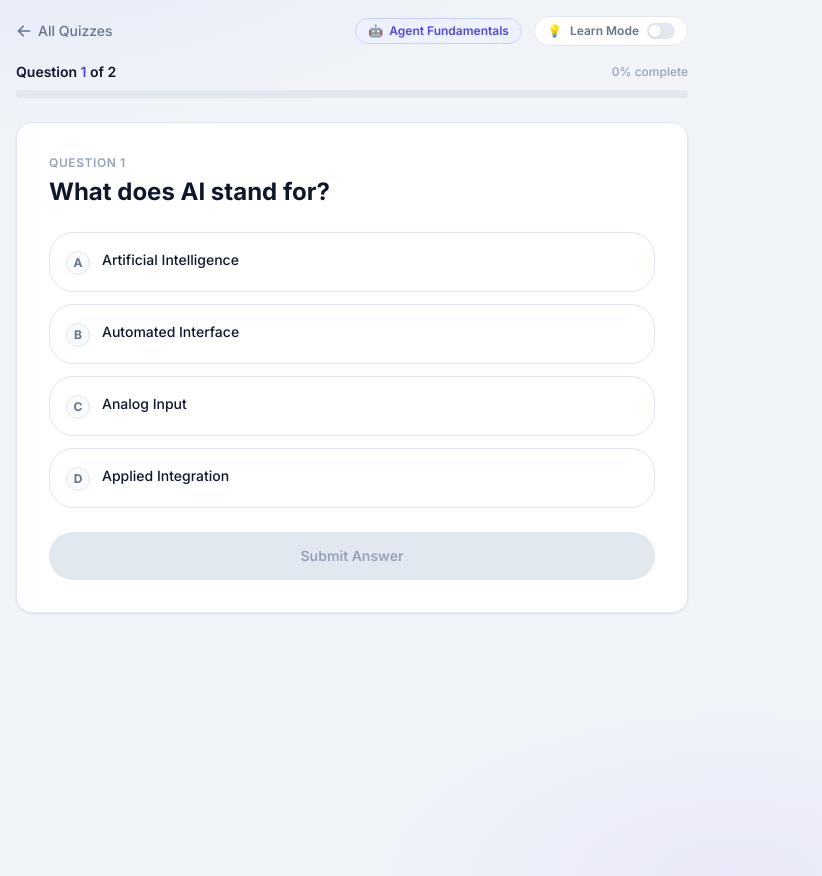
Scenario: QuizPage — after submit › shows the explanation after submitting
Expected: the heading "What does AI stand for?" is shown, [49,177,330,206]
Click the text "Artificial Intelligence" at (170, 260), box [102,249,239,272]
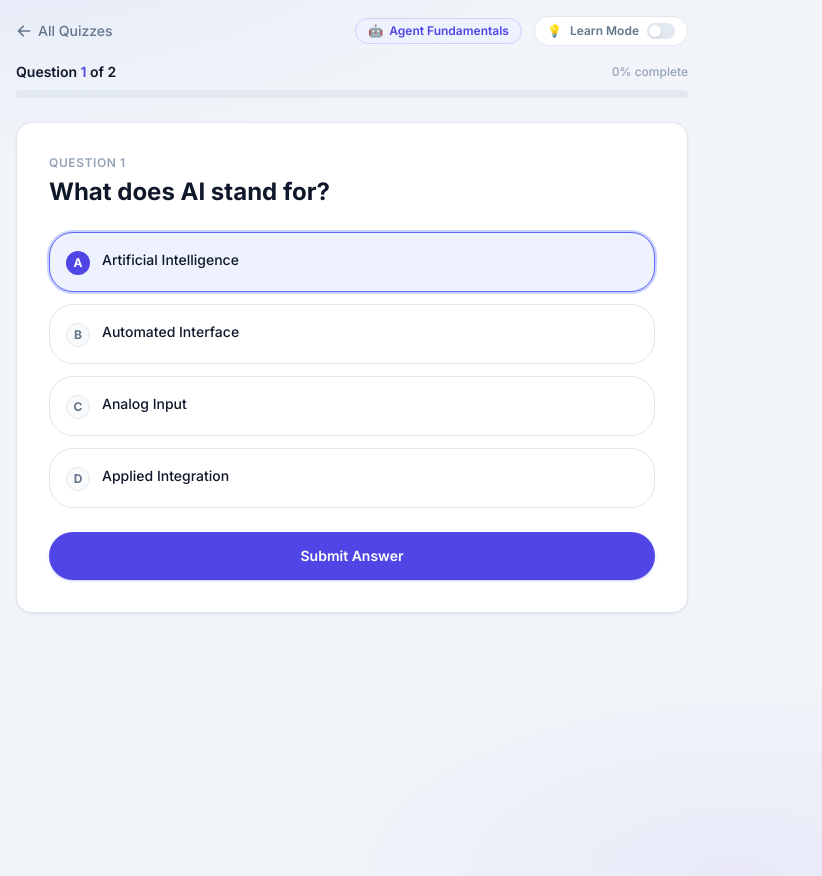
Click the button "Submit Answer" at (352, 556), box [49,532,655,580]
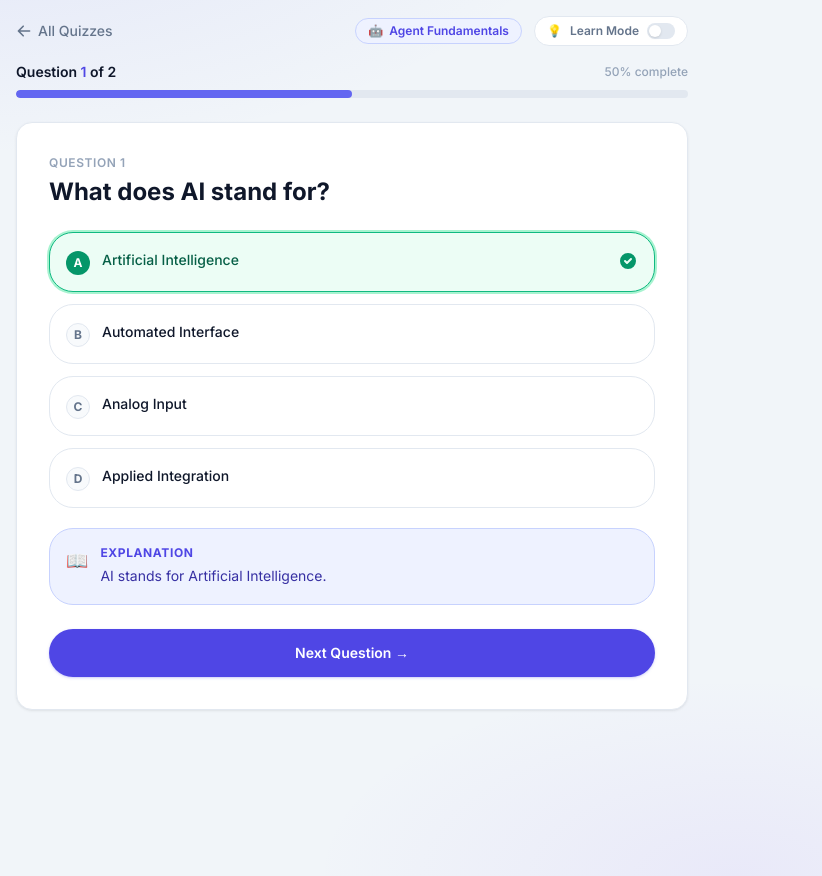
Result: the text "AI stands for Artificial Intelligence." is shown at [100,565,327,588]
